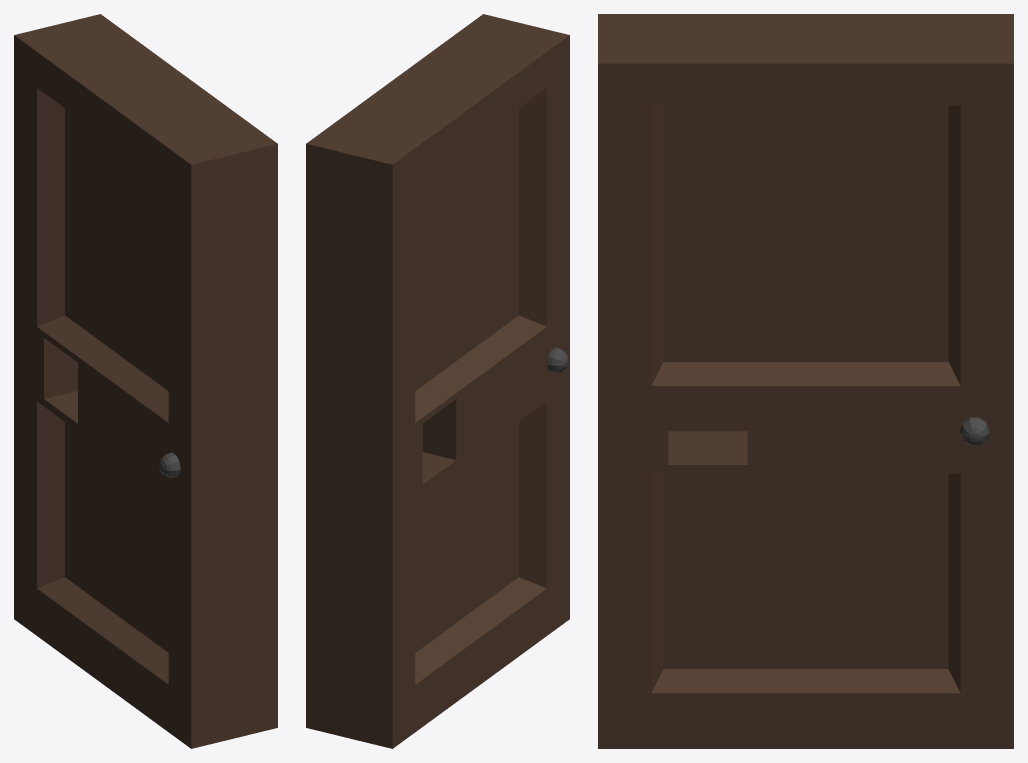
File: door.fbx
The picture shows the model from 3 angles, left to right: view 1: azimuth 30°, elevation 25°; view 2: azimuth 150°, elevation 25°; view 3: azimuth 270°, elevation 25°; orthographic projection. The views are drawn at different scales.
Visible parts, largest first — view 1: S_Door; view 2: S_Door; view 3: S_Door.
Part boxes in pixels (x1,y1,x2,y2): S_Door: [14, 14, 277, 748]; S_Door: [306, 14, 569, 748]; S_Door: [598, 14, 1013, 748].
Bounding box in the file's own units: 46.11 × 225 × 124.
